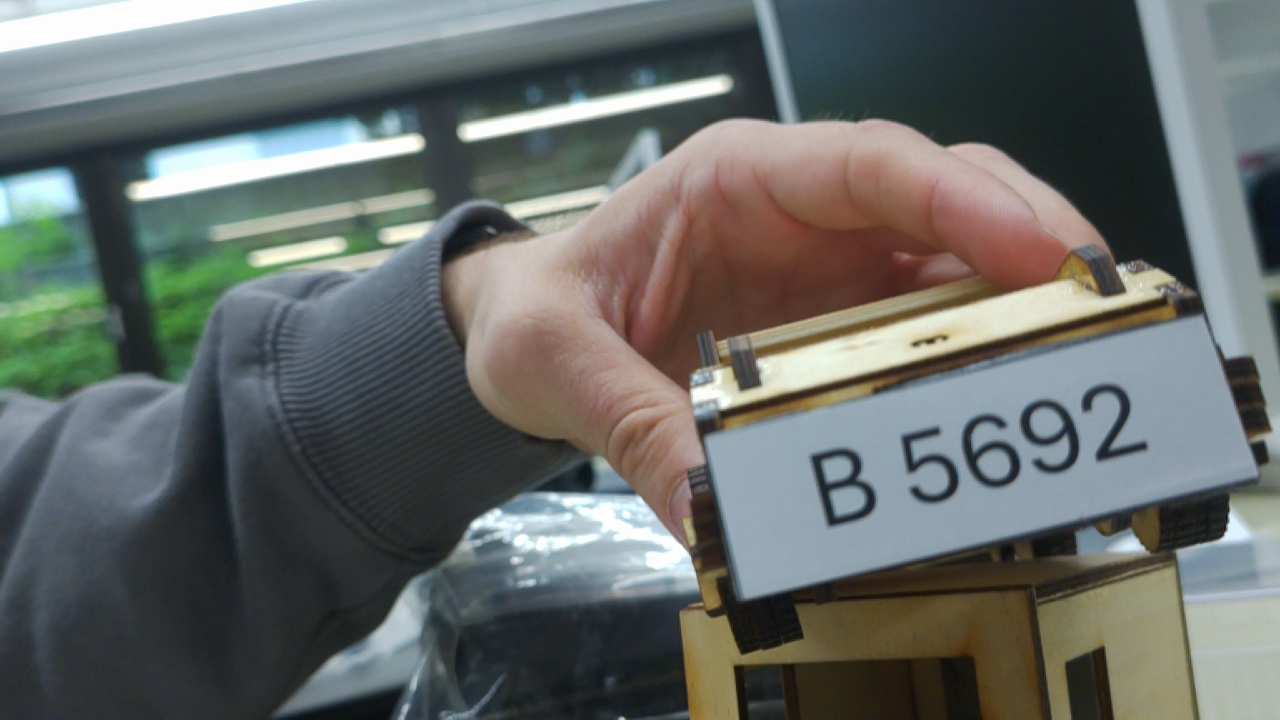license_plate: (695, 301, 1265, 596)
